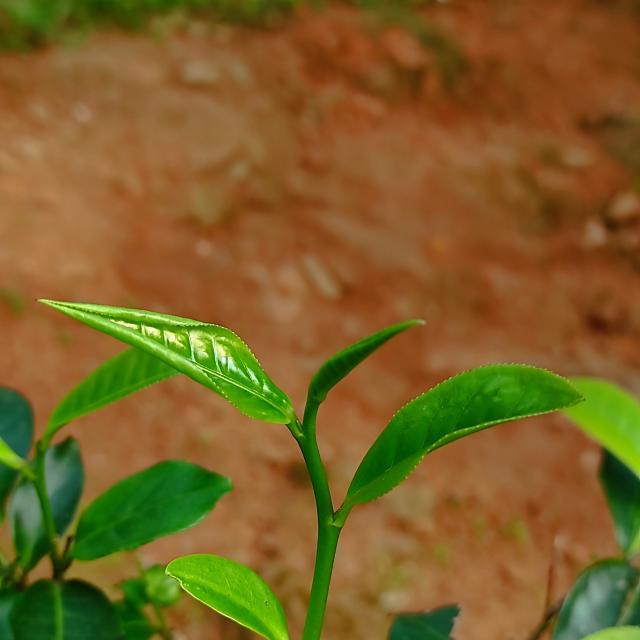unopened_leaf: (296, 309, 434, 408)
